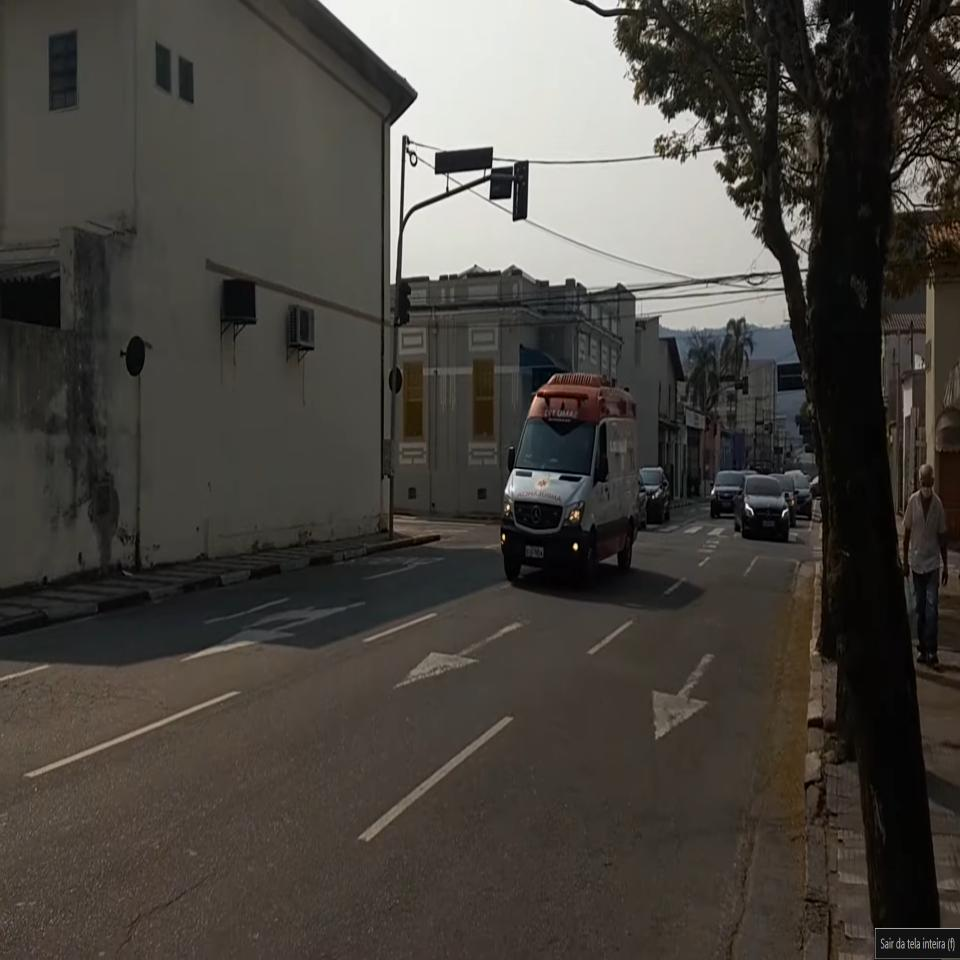ambulancia: (501, 368, 642, 588)
